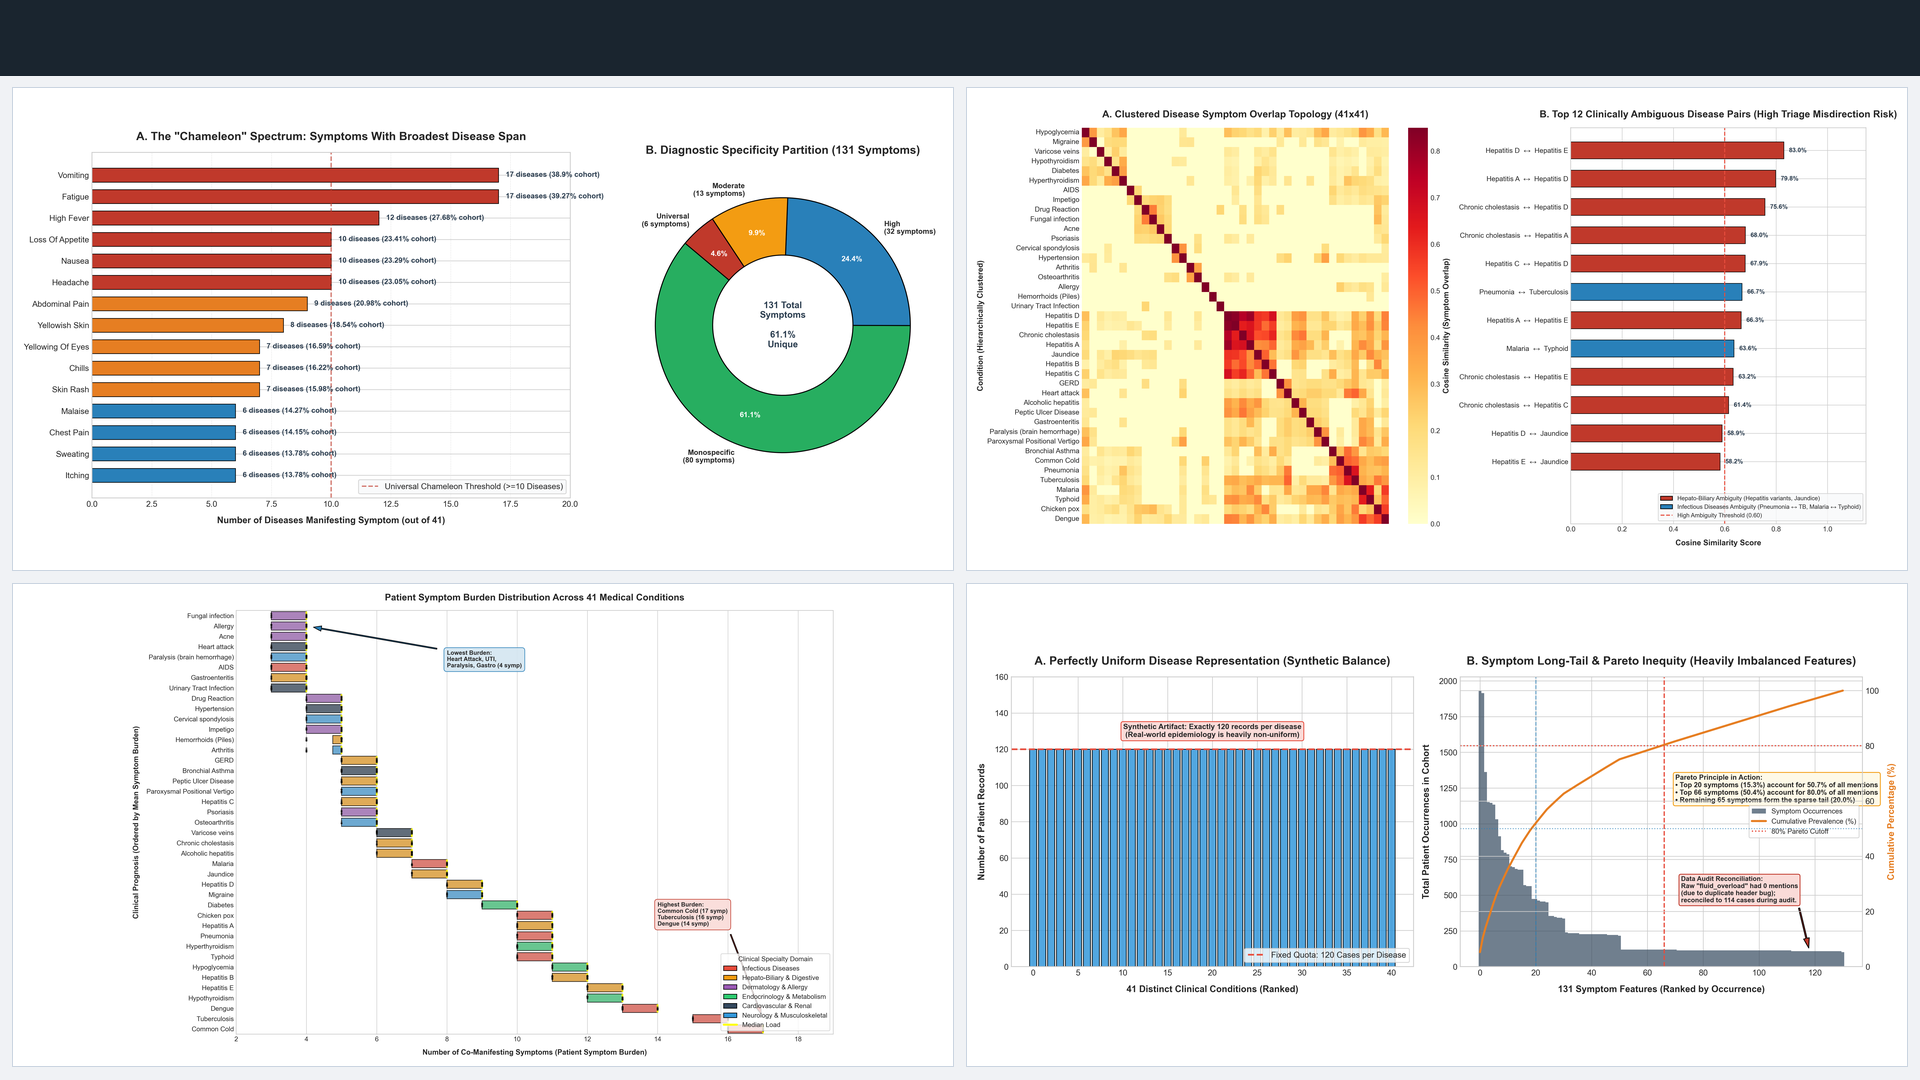

What the dashboard file says about the page in this screenshot:
{"tool":"tableau","page":{"name":"Dashboard 1","canvas":[1000,1000],"units":"permille","ordinal":0},"visuals":[{"type":"title","box":[9,9.5,982,37.3]},{"type":"worksheet","title":"Sheet 1 - Chameleon Spectrum","mark":"Automatic","rows":["symptom"],"cols":["diseases_affected_count"],"box":[9,46.8,490.7,453.2]},{"type":"worksheet","title":"Sheet 3-Ambiguity Pairs","mark":"Automatic","rows":["Calculation_2639157059698689"],"cols":["cosine_similarity"],"box":[499.7,46.8,310.9,471.8]},{"type":"legend","title":"Sheet 3-Ambiguity Pairs","param":"[federated.10cvid10ihz8en1deildy0alh55d].[none:same_domain:nk]","box":[810.6,46.8,180.4,85.6]},{"type":"legend","title":"Sheet 2 - Symptom Burden","param":"[federated.0lh68sa1xfuf711eky2gv0qk15j7].[none:clinical_domain:nk]","box":[810.6,132.4,180.4,185.5]},{"type":"legend","title":"Sheet 4-Pareto Imbalance","param":"[federated.128s5xw034duft12dphi7171w4nm].[:Measure Names]","box":[810.6,317.9,180.4,85.6]},{"type":"legend","title":"Sheet 1 - Chameleon Spectrum","param":"[federated.128s5xw034duft12dphi7171w4nm].[none:specificity_class:nk]","box":[810.6,403.5,180.4,85.6]},{"type":"worksheet","title":"Sheet 2 - Symptom Burden","mark":"Automatic","rows":["prognosis"],"cols":["active_symptoms_count"],"box":[9,500,490.7,490.5]},{"type":"worksheet","title":"Sheet 4-Pareto Imbalance","mark":"Automatic","rows":["patient_frequency","patient_frequency"],"cols":["symptom"],"box":[499.7,518.6,310.9,471.9]}]}

Visuals, with their boxes on the dashboard's canvas, which has no fixed pixel size, in thousandths of its width and height (x1, y1, x2, y2). These are canvas units, not pixel positions in the 1920x1080 screenshot, which may show the page scaled, cropped or inside an application window:
title: x1=9 y1=10 x2=991 y2=47
"Sheet 1 - Chameleon Spectrum" worksheet: x1=9 y1=47 x2=500 y2=500
"Sheet 3-Ambiguity Pairs" worksheet: x1=500 y1=47 x2=811 y2=519
"Sheet 3-Ambiguity Pairs" legend: x1=811 y1=47 x2=991 y2=132
"Sheet 2 - Symptom Burden" legend: x1=811 y1=132 x2=991 y2=318
"Sheet 4-Pareto Imbalance" legend: x1=811 y1=318 x2=991 y2=404
"Sheet 1 - Chameleon Spectrum" legend: x1=811 y1=404 x2=991 y2=489
"Sheet 2 - Symptom Burden" worksheet: x1=9 y1=500 x2=500 y2=990
"Sheet 4-Pareto Imbalance" worksheet: x1=500 y1=519 x2=811 y2=990
